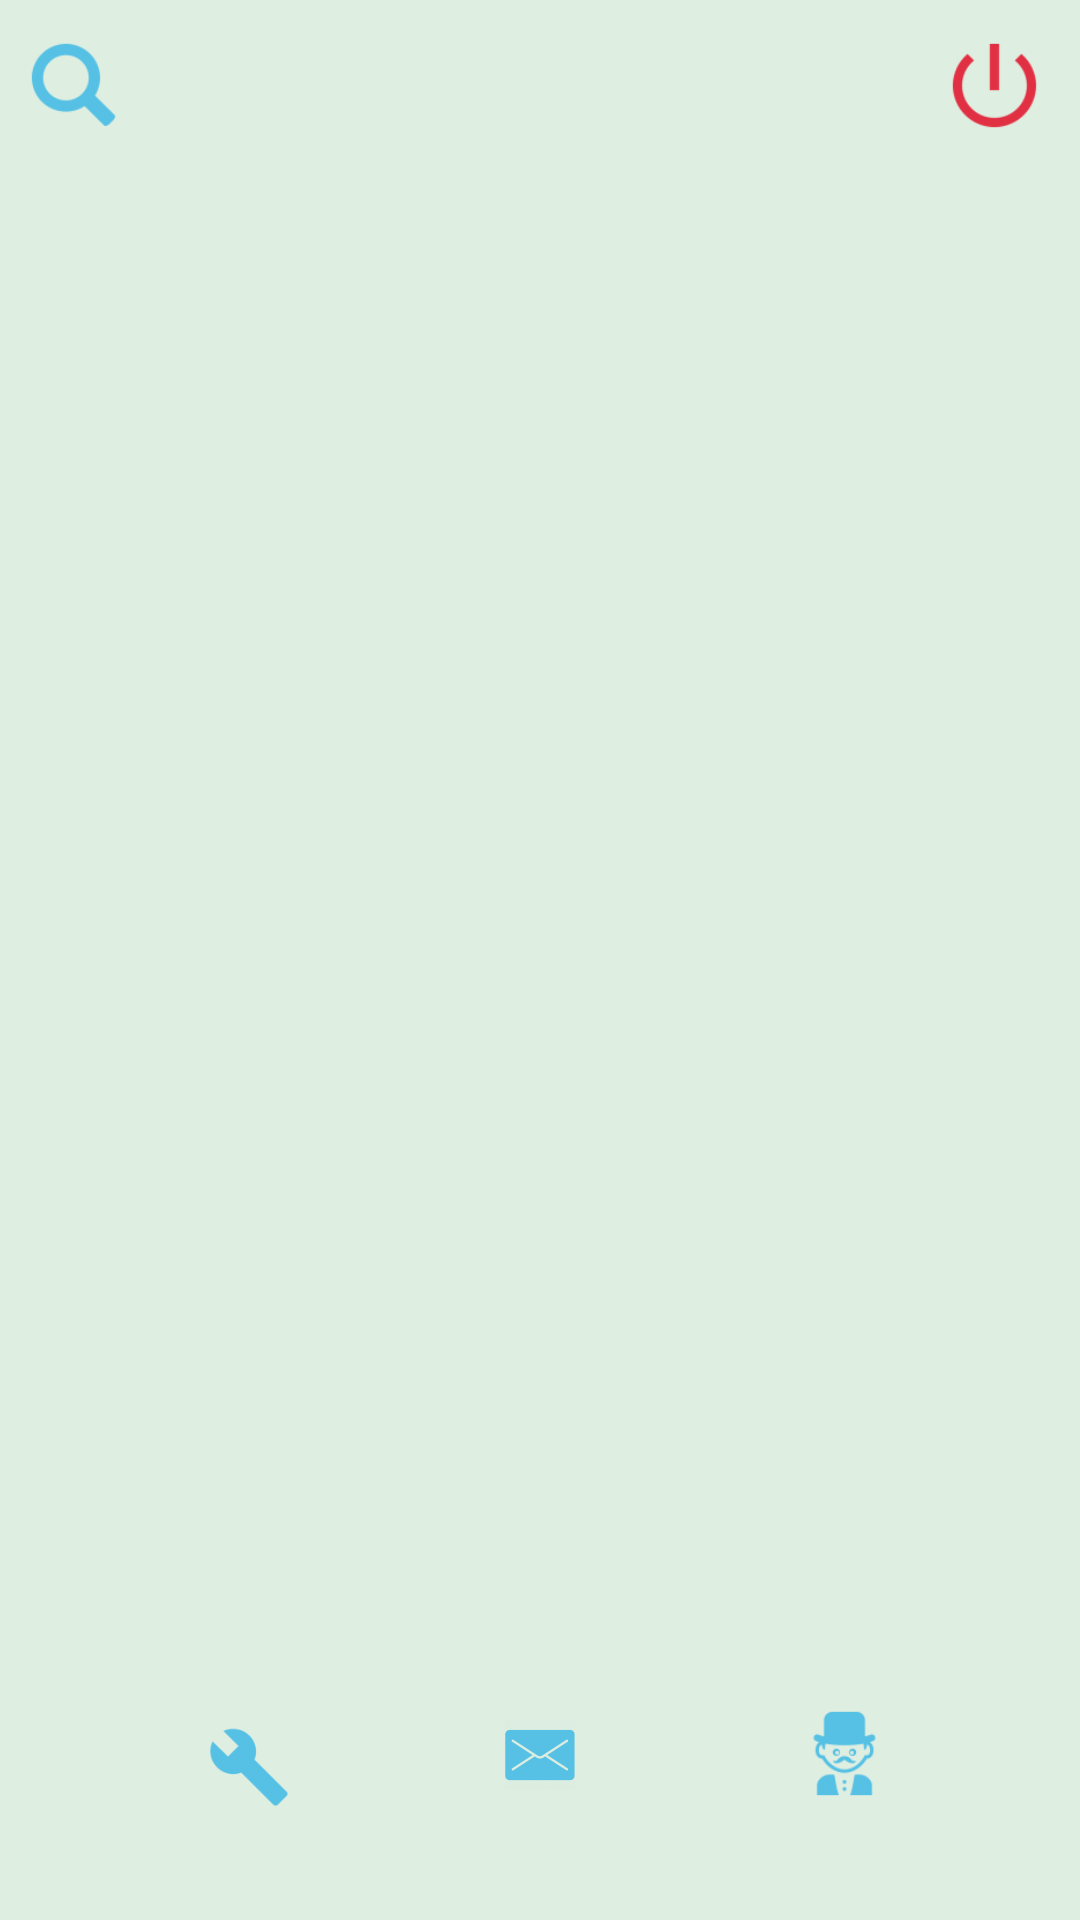

Icons on this 1080×1920 Android screen, each with its box as (x1, y1, x2, y2):
search: (32, 44, 115, 126)
Show Messages: (505, 1730, 575, 1780)
signout: (952, 43, 1037, 128)
